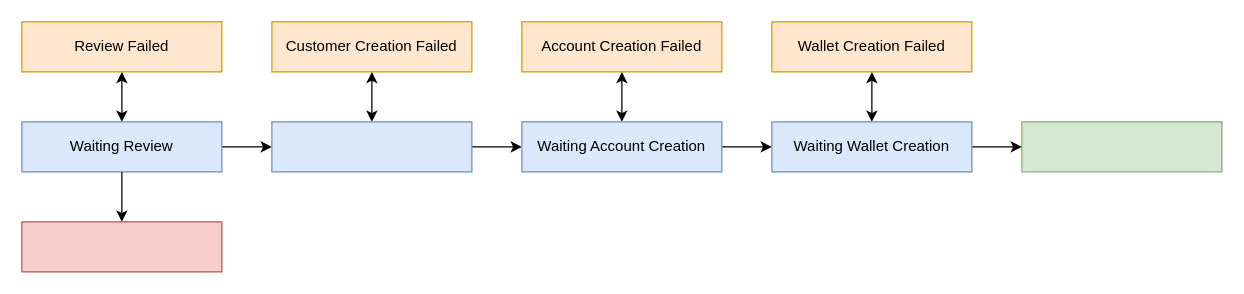
This 1244x294 diagram has some shape labels left out. Each missing label, with the centre of its shape:
"Approved" goes at pixel 1121 146.
"Rejected" goes at pixel 121 246.
"Waiting Customer Creation" goes at pixel 371 146.
